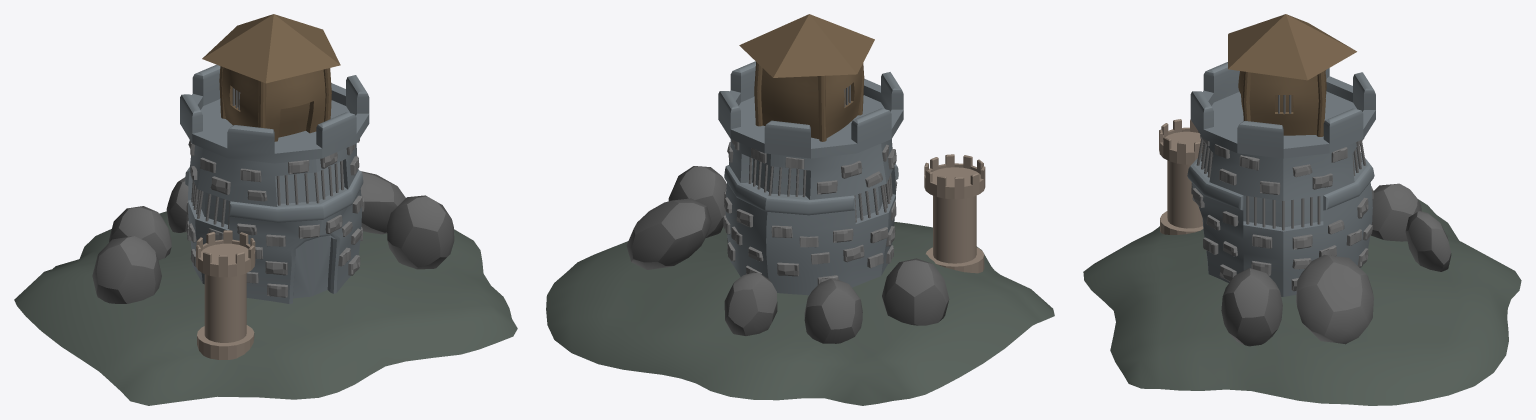
Rendered from IslandPrision.fbx.
3 renders of one model, left to right at view 1: azimuth 30°, elevation 25°; view 2: azimuth 150°, elevation 25°; view 3: azimuth 270°, elevation 25°, orthographic. The views are drawn at different scales.
Visible parts, largest first — view 1: pPlane1, pCylinder14, pCube18, pCube20, pCylinder13, pCube77, polySurface12; view 2: pPlane1, pCylinder14, pCube18, pCube20, pCylinder13, pCube77, polySurface12; view 3: pPlane1, pCylinder14, pCube18, pCube20, pCube77, pCylinder13, polySurface12.
Part boxes in pixels (bbox=[...]): pPlane1: bbox=[14, 211, 517, 405]; pCylinder14: bbox=[180, 64, 369, 303]; pCube18: bbox=[92, 171, 454, 303]; pCube20: bbox=[202, 14, 340, 141]; pCylinder13: bbox=[196, 230, 255, 359]; pCube77: bbox=[185, 139, 364, 297]; polySurface12: bbox=[191, 87, 343, 228]; pPlane1: bbox=[546, 222, 1054, 405]; pCylinder14: bbox=[718, 61, 903, 295]; pCube18: bbox=[626, 166, 949, 343]; pCube20: bbox=[739, 14, 874, 141]; pCylinder13: bbox=[924, 154, 985, 273]; pCube77: bbox=[723, 139, 897, 284]; polySurface12: bbox=[748, 85, 892, 222]; pPlane1: bbox=[1083, 199, 1521, 405]; pCylinder14: bbox=[1187, 62, 1375, 296]; pCube18: bbox=[1221, 183, 1451, 346]; pCube20: bbox=[1228, 14, 1356, 136]; pCube77: bbox=[1191, 134, 1373, 291]; pCylinder13: bbox=[1159, 119, 1203, 234]; polySurface12: bbox=[1196, 95, 1365, 230].
Size of the model in its own units: 19.12 by 13.01 by 17.55.
